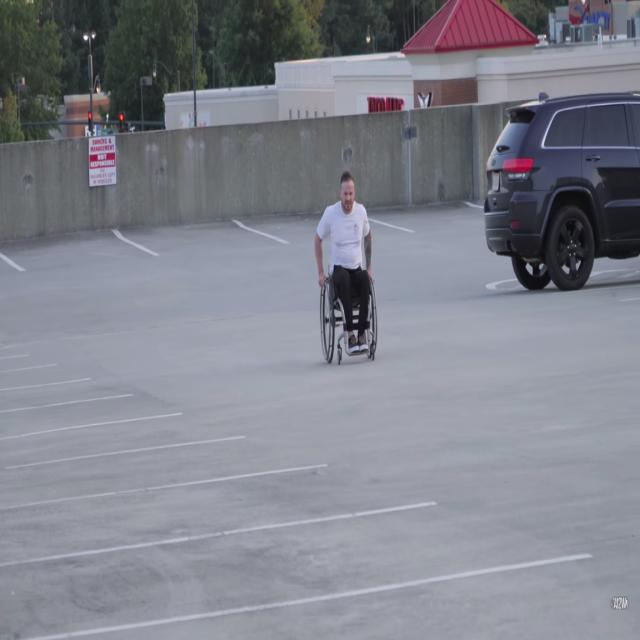wheelchairs: (313, 265, 383, 362)
